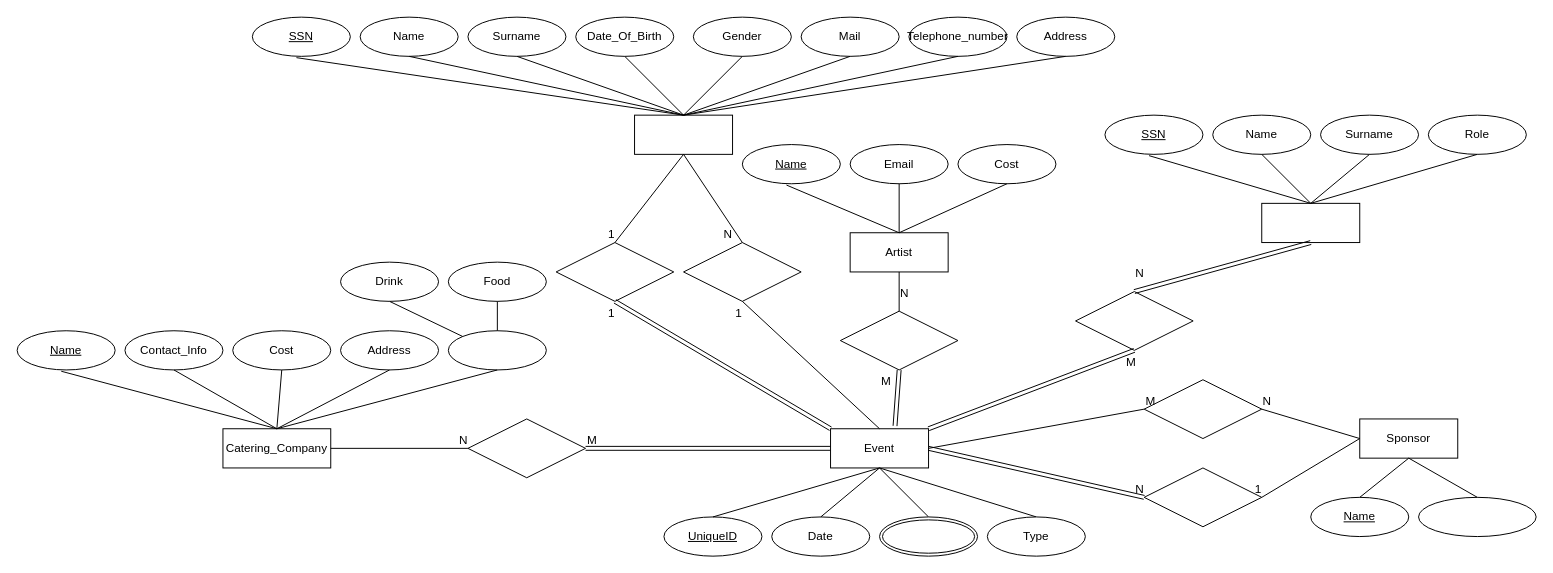
Some shapes in this 1553 by 573 pixel diagram are drawn without their labels. The shapes that lost their labels are listed below. From the top down, each one's centre as x and y in pixels, then its label:
At (x=683, y=134): "Staff".
At (x=1310, y=222): "Crew".
At (x=614, y=271): "Main_Organizer".
At (x=742, y=271): "Organized_By".
At (x=898, y=340): "Performance".
At (x=1134, y=320): "Has_Crew".
At (x=496, y=350): "Category".
At (x=1202, y=409): "Sponsored_By".
At (x=526, y=448): "Catered_By".
At (x=1202, y=497): "Main_Sponsor".
At (x=1477, y=516): "Sponsorship_Amount".
At (x=928, y=536): "Location".
